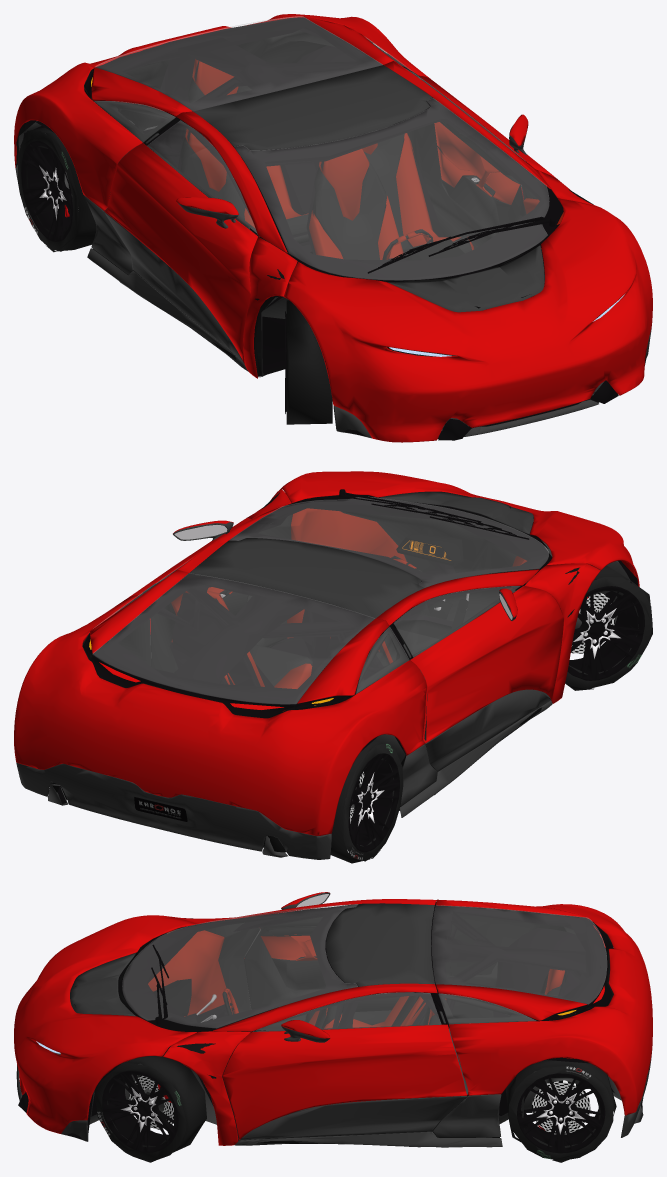
The model's file is car-concept.glb.
3 renders of one model, top to bottom at view 1: azimuth 30°, elevation 25°; view 2: azimuth 150°, elevation 25°; view 3: azimuth 270°, elevation 25°, orthographic. The views are drawn at different scales.
Visible parts, largest first — view 1: BodyRearPanelsColor1, BodyWindshield, BodyWindshieldGasket, BodyRoofPanel, InteriorDashSides, InteriorDashMid, InteriorSeatsColor2, object 21, WheelFrontLRim, InteriorMid, BodyUnderside, InteriorSteeringDash; view 2: BodyRearPanelsColor1, BodyWindshield, BodyRoofPanel, BodyWindshieldGasket, InteriorDashMid, WheelFrontLRim, InteriorDashSides, object 21, InteriorSeatsColor2, InteriorSteeringDash, InteriorFloormats, BodyUnderside (+3 smaller); view 3: BodyRearPanelsColor1, BodyWindshield, BodyWindshieldGasket, BodyRoofPanel, InteriorDashMid, WheelFrontLRim, object 21, InteriorDashSides, InteriorMid, BodyUnderside, WheelFrontLBrakeDisc, InteriorSeatsColor2 (+1 smaller).
Part boxes in pixels (x1,y1,x2,y2): BodyRearPanelsColor1: (14, 14, 652, 442); BodyWindshield: (94, 16, 549, 280); BodyWindshieldGasket: (23, 17, 646, 440); BodyRoofPanel: (15, 65, 651, 438); InteriorDashSides: (185, 59, 563, 349); InteriorDashMid: (16, 30, 526, 282); InteriorSeatsColor2: (180, 77, 471, 259); object 21: (17, 127, 332, 424); WheelFrontLRim: (21, 141, 286, 413); InteriorMid: (92, 173, 593, 375); BodyUnderside: (18, 77, 604, 430); InteriorSteeringDash: (406, 239, 464, 260); BodyRearPanelsColor1: (14, 471, 639, 835); BodyWindshield: (93, 497, 548, 704); BodyRoofPanel: (16, 491, 552, 859); BodyWindshieldGasket: (58, 489, 637, 856); InteriorDashMid: (48, 504, 527, 852); WheelFrontLRim: (348, 586, 644, 852); InteriorDashSides: (171, 494, 526, 711); object 21: (49, 565, 652, 863); InteriorSeatsColor2: (177, 610, 439, 686); InteriorSteeringDash: (396, 533, 463, 566); InteriorFloormats: (269, 599, 468, 709); BodyUnderside: (47, 520, 630, 857); BodyRearPanelsColor1: (14, 892, 652, 1145); BodyWindshield: (122, 904, 606, 1031); BodyWindshieldGasket: (18, 901, 642, 1139); BodyRoofPanel: (16, 892, 652, 1147); InteriorDashMid: (118, 907, 641, 1106); WheelFrontLRim: (102, 1070, 605, 1153); object 21: (94, 1054, 616, 1162); InteriorDashSides: (148, 928, 564, 1045); InteriorMid: (177, 918, 499, 1144); BodyUnderside: (38, 929, 643, 1124); WheelFrontLBrakeDisc: (128, 1075, 590, 1134); InteriorSeatsColor2: (305, 973, 560, 1028).
Size of the model in its own units: 2.54 by 1.15 by 4.36.
Materials: 23 (6 with a texture image).
